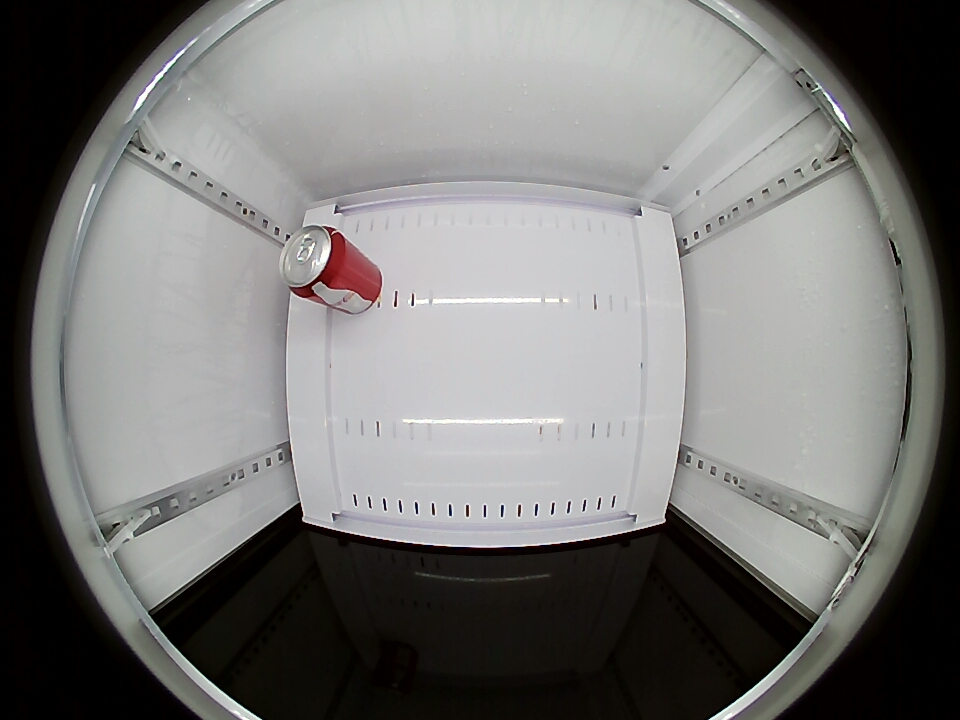kele: (279, 225, 347, 298)
